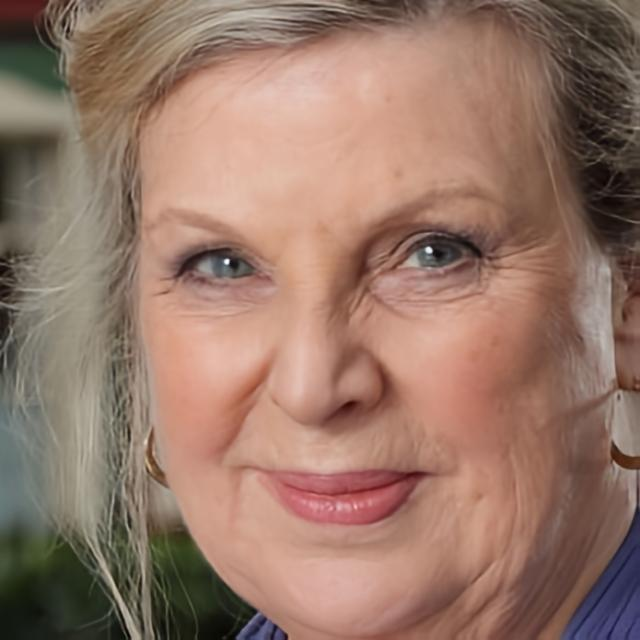content: (134, 35, 582, 622)
